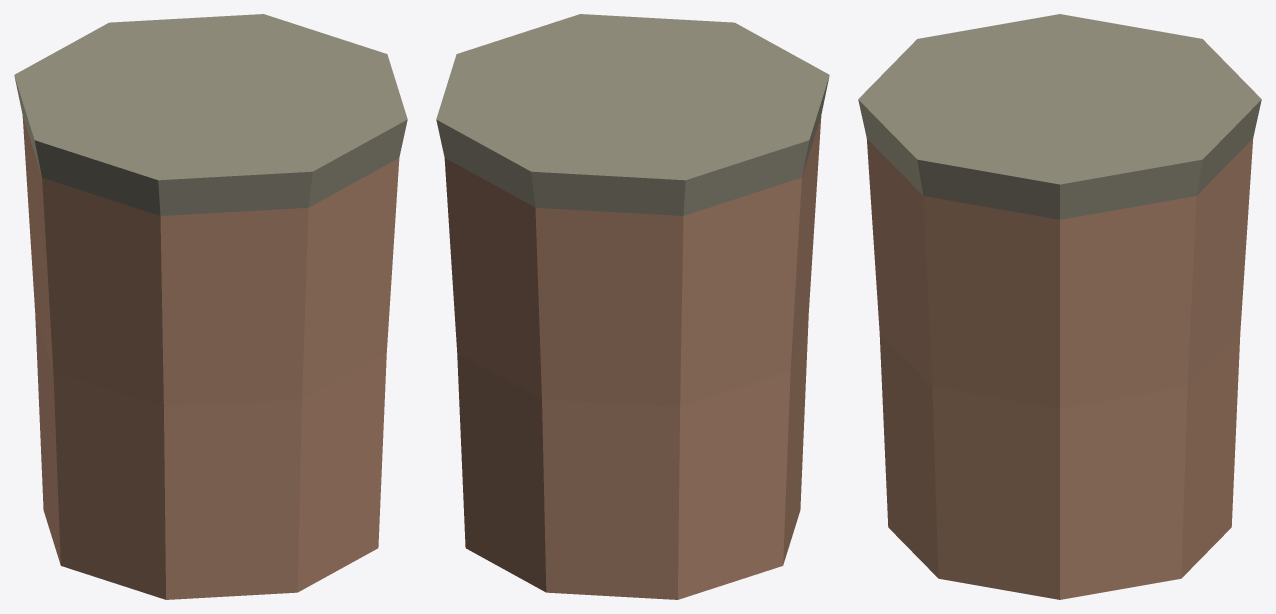
The model's file is pottery_mug_lod1.glb.
3 views of the same model, side by side, from view 1: azimuth 30°, elevation 25°; view 2: azimuth 150°, elevation 25°; view 3: azimuth 270°, elevation 25° (orthographic).
Visible parts, largest first — view 1: pottery_mug; view 2: pottery_mug; view 3: pottery_mug.
Boxes of the visible parts, <box> form: pottery_mug: <box>14,14,407,599</box>; pottery_mug: <box>436,14,829,599</box>; pottery_mug: <box>858,14,1261,599</box>.
Size of the model in its own units: 0.094 by 0.11 by 0.094.
